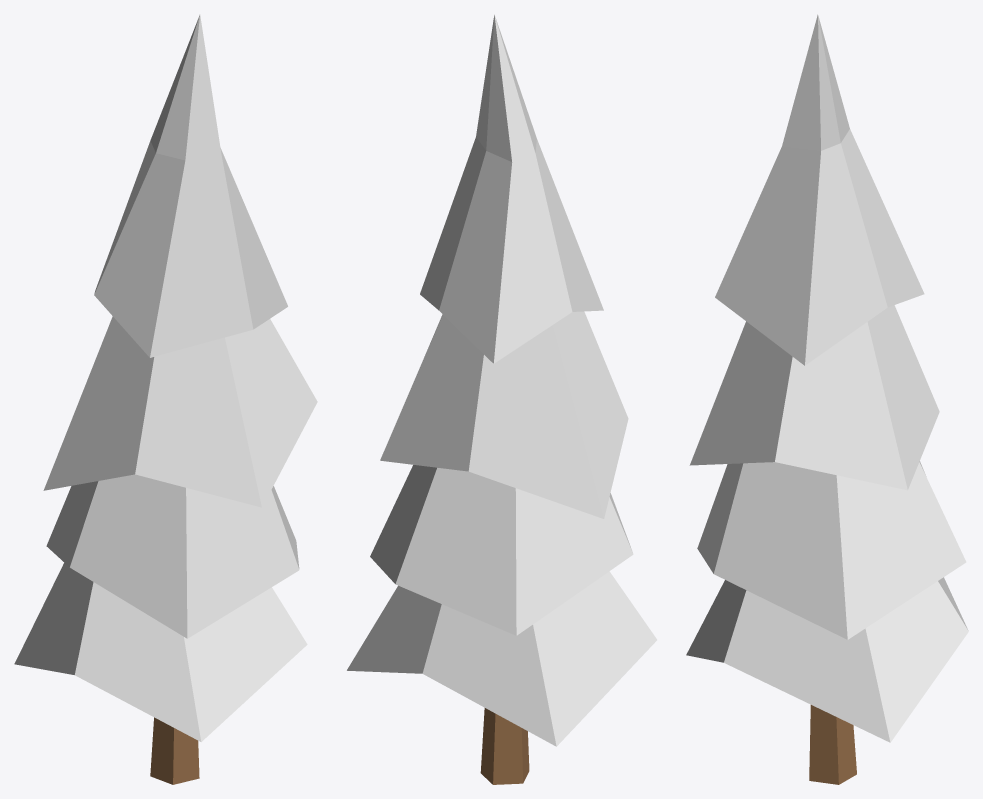
The model's file is Pine_Tree_m_Snow_BT_09.fbx.
3 views of the same model, side by side, from view 1: azimuth 30°, elevation 25°; view 2: azimuth 150°, elevation 25°; view 3: azimuth 270°, elevation 25° (orthographic). The views are drawn at different scales.
Parts seen in each view (by area): view 1: Pine_Tree_m_Snow_BT_09; view 2: Pine_Tree_m_Snow_BT_09; view 3: Pine_Tree_m_Snow_BT_09.
Part boxes in pixels (box(x1,y1,x2,y2)): Pine_Tree_m_Snow_BT_09: box(14, 14, 317, 784); Pine_Tree_m_Snow_BT_09: box(347, 14, 656, 784); Pine_Tree_m_Snow_BT_09: box(686, 14, 968, 784).
Size of the model in its own units: 212 by 594 by 198.
